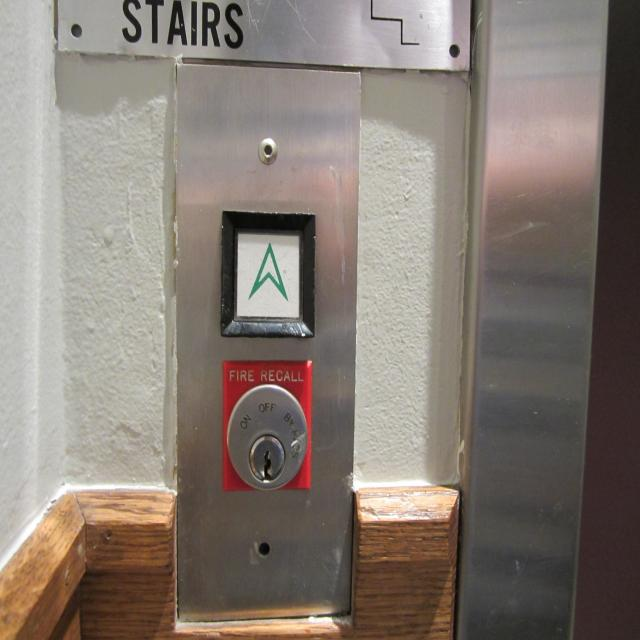keyhole: (221, 360, 312, 490)
up: (218, 207, 318, 340)
